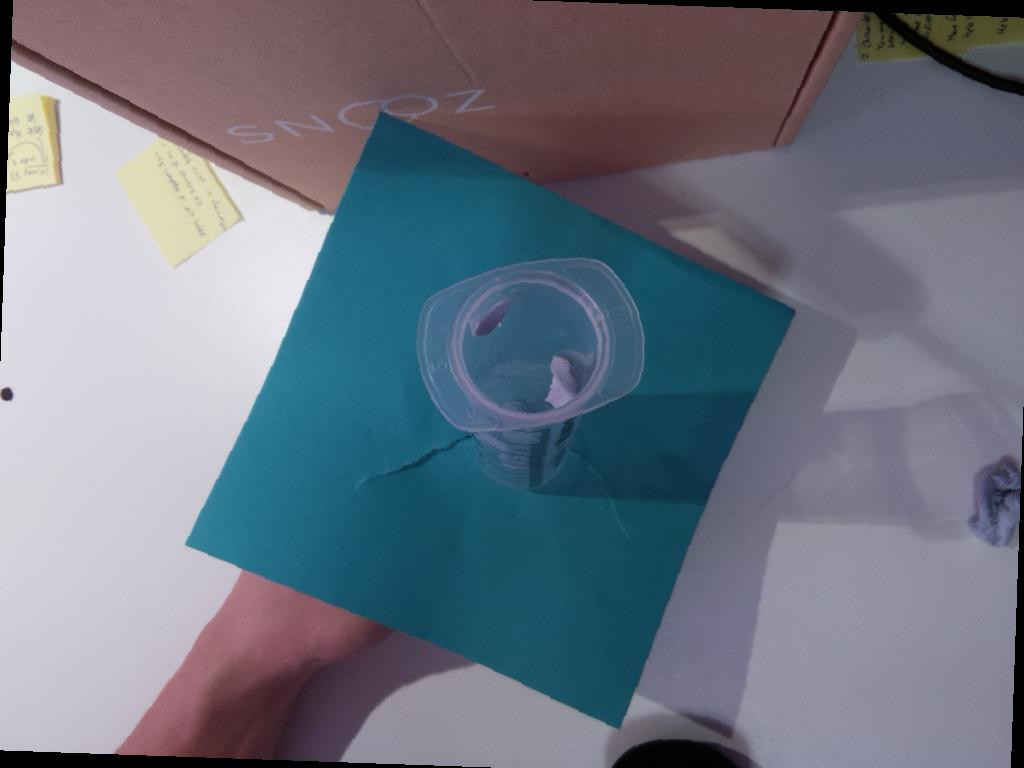dirty: (416, 257, 646, 430)
